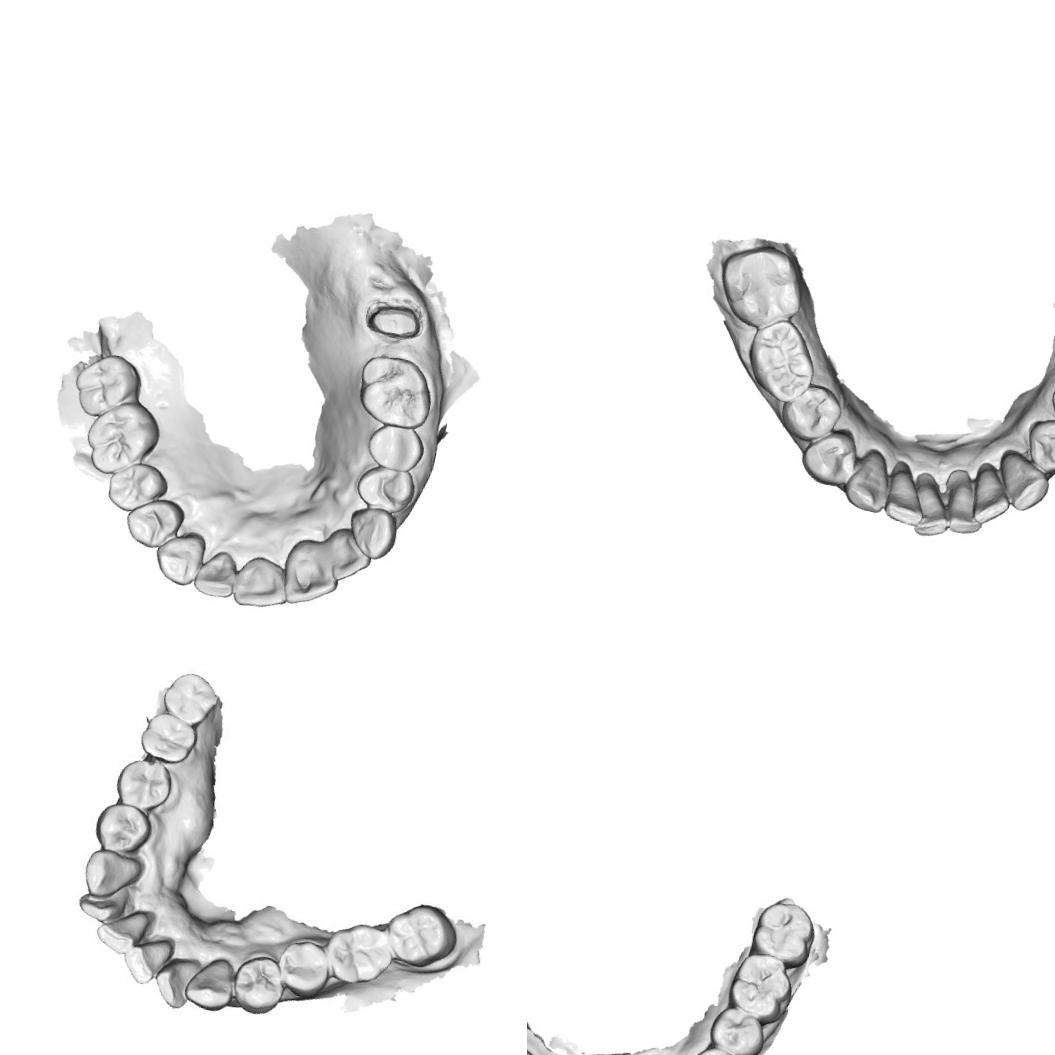canine: (989, 447, 1055, 517), (838, 443, 896, 517), (148, 524, 208, 590), (184, 953, 239, 1020), (342, 502, 402, 563), (82, 846, 144, 900)
crown: (362, 295, 427, 346)
incisor: (279, 534, 345, 613), (228, 550, 294, 616), (319, 522, 376, 588), (964, 463, 1019, 530), (878, 466, 932, 530), (940, 478, 990, 540), (909, 479, 958, 541), (190, 544, 240, 601), (100, 906, 156, 955), (157, 952, 203, 1009), (73, 880, 128, 926), (124, 938, 173, 981)
molar: (708, 234, 814, 340), (75, 390, 168, 484), (737, 311, 824, 409), (350, 348, 440, 434), (67, 346, 147, 426), (319, 914, 399, 992), (722, 948, 798, 1029), (382, 899, 461, 973), (746, 896, 819, 972), (152, 663, 220, 733), (132, 707, 198, 765)
premolar: (774, 376, 846, 447), (795, 420, 862, 491), (102, 454, 173, 518), (120, 490, 188, 554), (360, 418, 430, 476), (112, 754, 178, 814), (275, 934, 334, 1001), (351, 460, 419, 516), (230, 952, 286, 1018), (704, 1002, 768, 1055), (92, 802, 148, 851), (1019, 413, 1055, 480), (684, 1042, 747, 1055)
